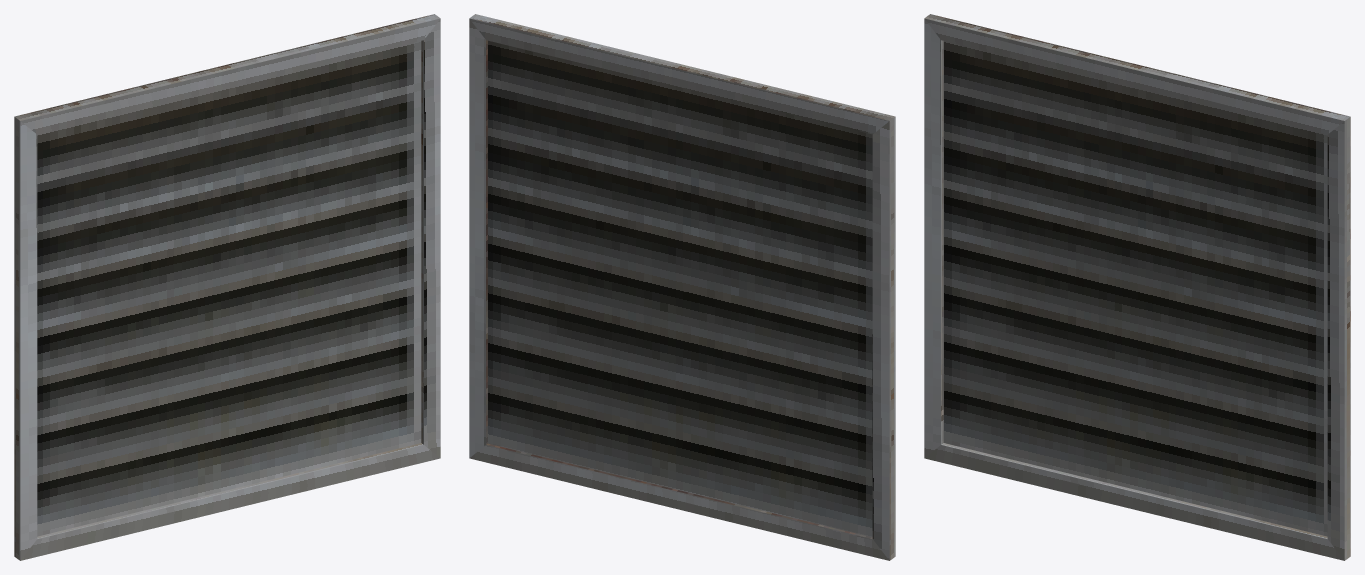
The model's file is vent_cover.glb.
The picture shows the model from 3 angles, left to right: view 1: azimuth 30°, elevation 25°; view 2: azimuth 150°, elevation 25°; view 3: azimuth 330°, elevation 25°; orthographic projection.
Visible parts, largest first — view 1: vent_cover; view 2: vent_cover; view 3: vent_cover.
Part boxes in pixels (<box>): vent_cover: <box>14,14,440,560</box>; vent_cover: <box>469,14,895,560</box>; vent_cover: <box>924,14,1350,560</box>.
Size of the model in its own units: 1.01 by 1.01 by 0.0254.
1 material, 1 textured.
